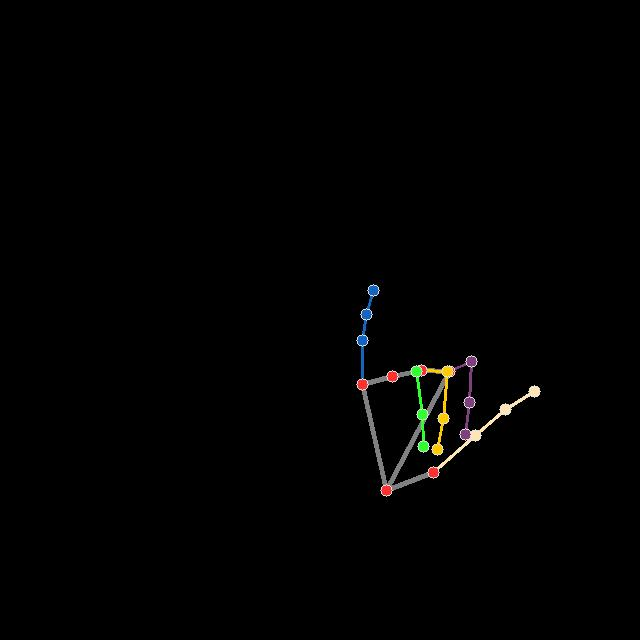skr: (354, 282, 541, 497)
